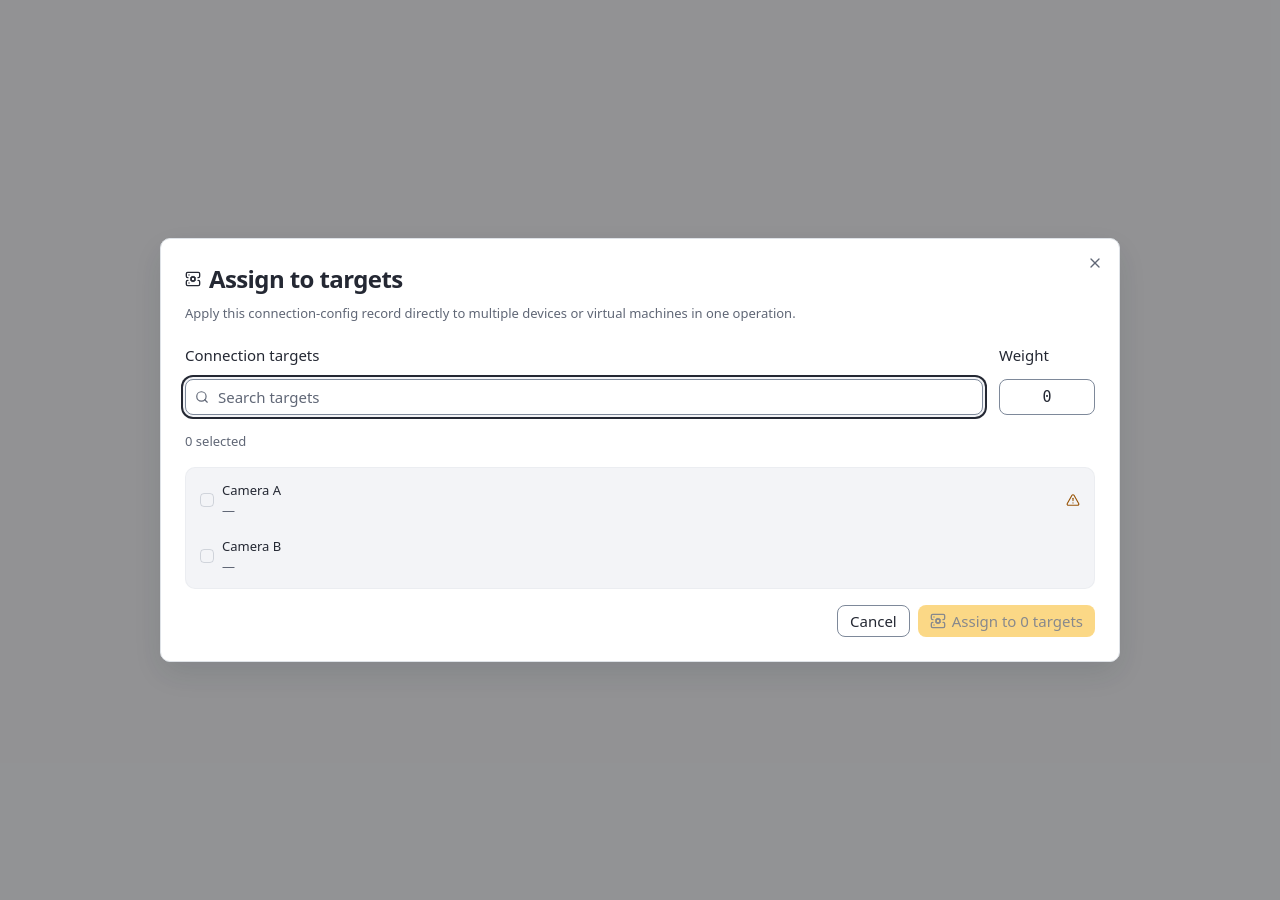
AssignToTargetsDialog › removes a selected target on a repeated click
Click the button "Camera A —" at (252, 490), box [192,474,1088,526]
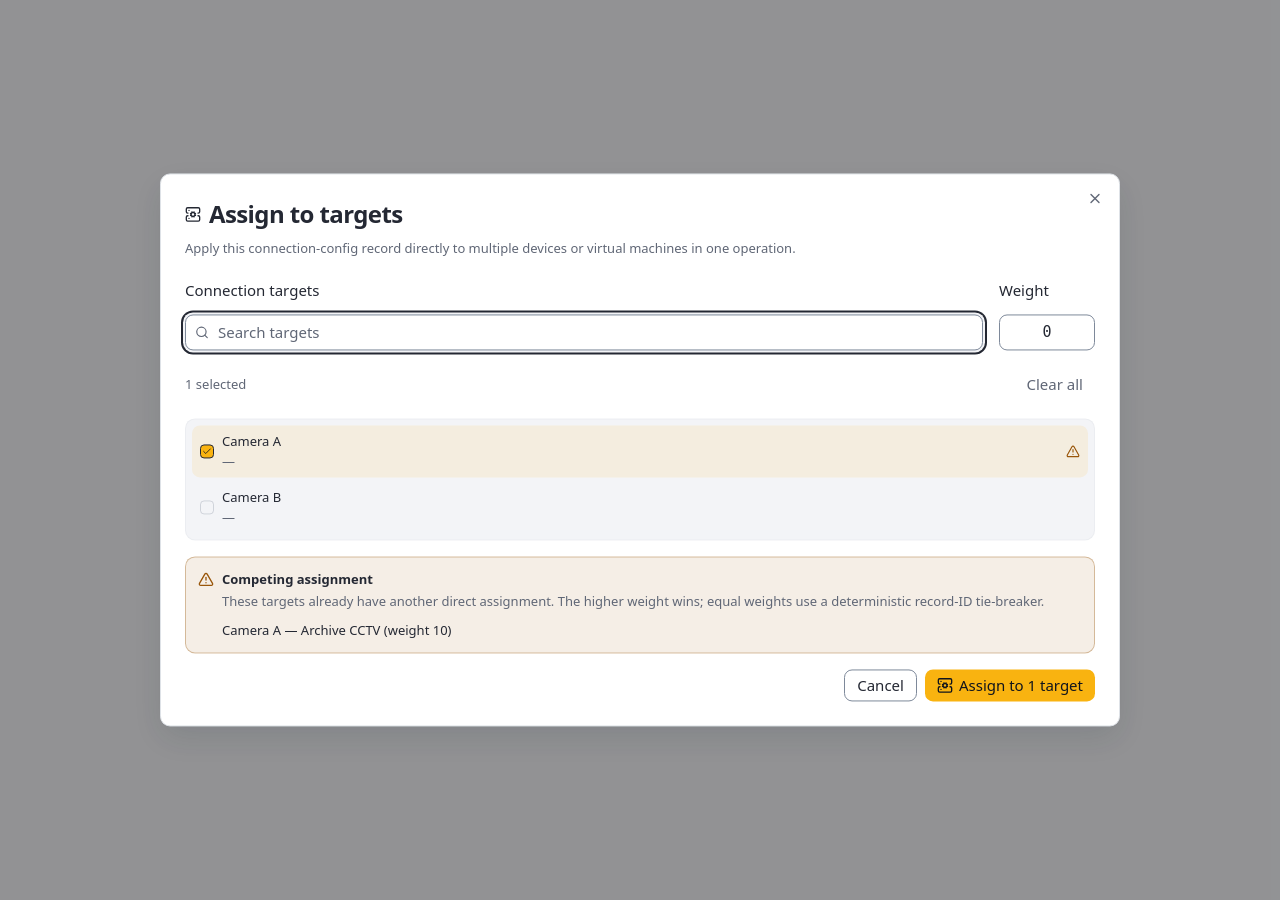
Now the button "Camera A —" is pressed
Click the button "Camera A —" at (252, 441), box [192,425,1088,477]
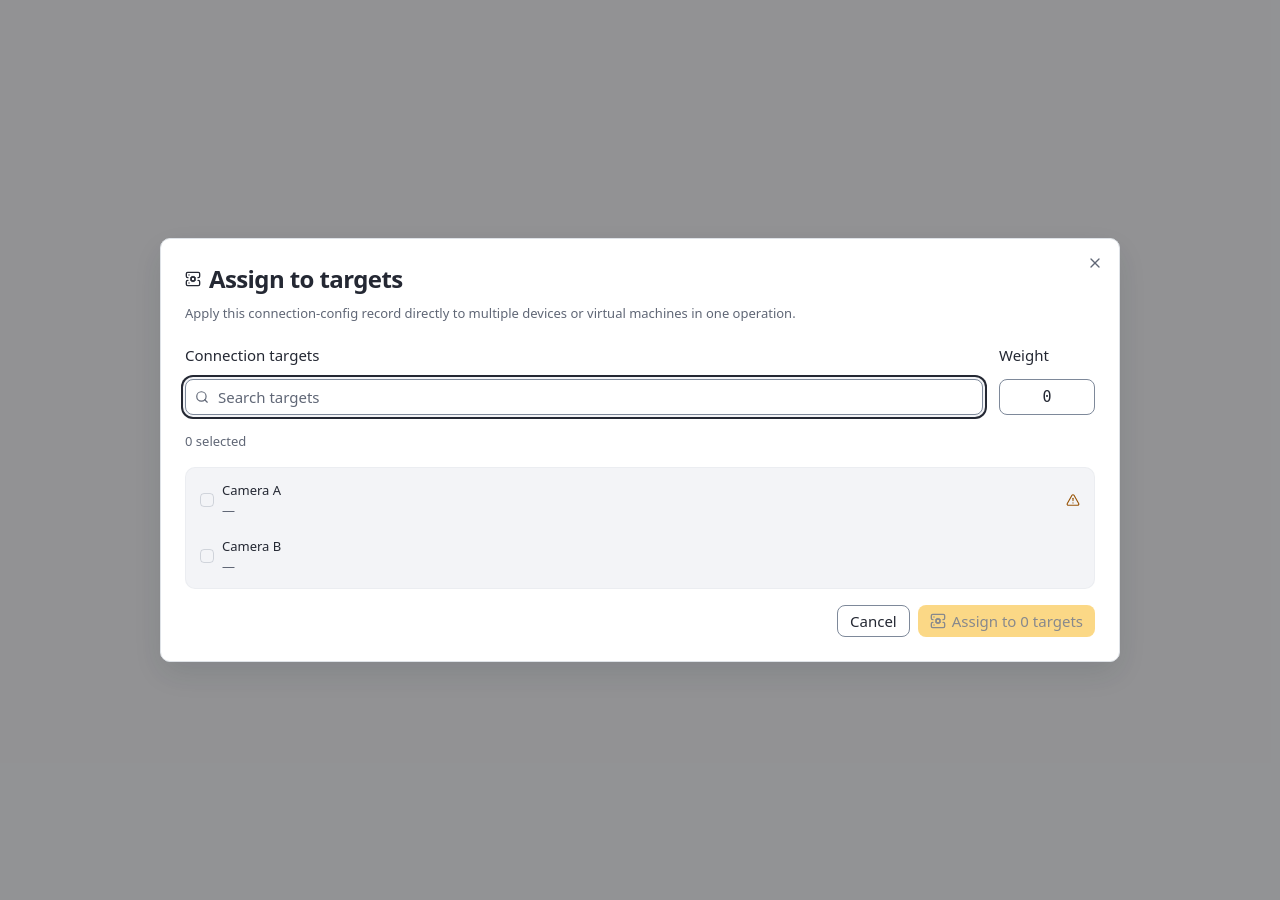
Now the text "0 selected" is shown, box [185,431,246,451]
